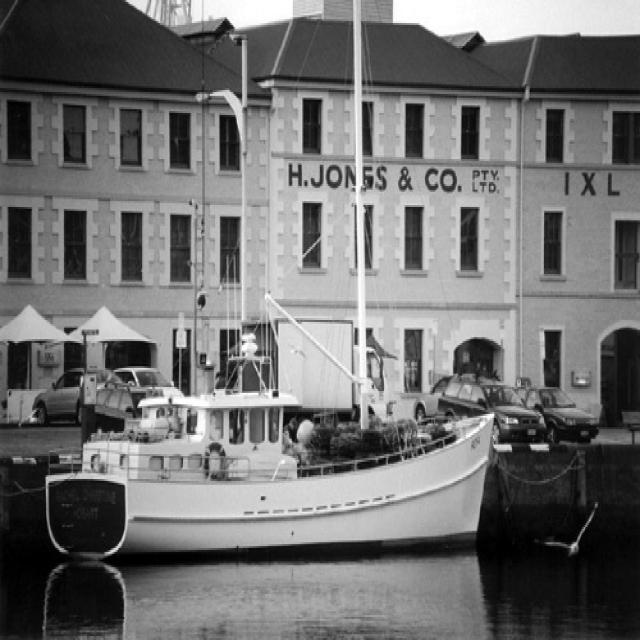bird: (536, 497, 604, 568)
boat: (46, 291, 495, 569)
car: (439, 371, 545, 459), (507, 384, 600, 446), (28, 362, 106, 425), (79, 382, 151, 432), (111, 365, 184, 400), (413, 371, 449, 424)
